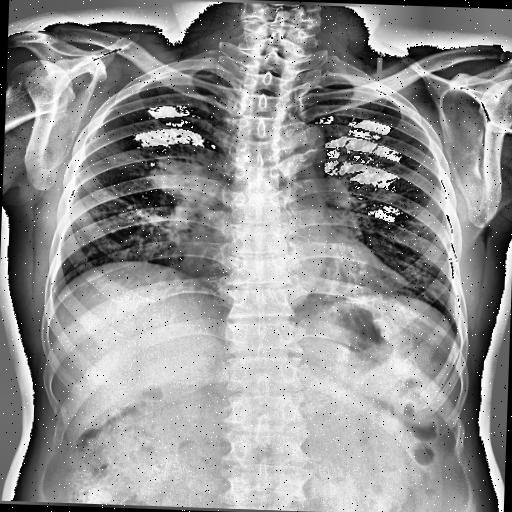3- Cardiomegaly: (178, 250, 390, 296)
4- Consolidation: (150, 144, 217, 203), (150, 154, 220, 202)
6- Infiltration: (132, 150, 214, 236)
8- Nodule-Mass: (150, 144, 217, 203), (150, 154, 220, 202)
